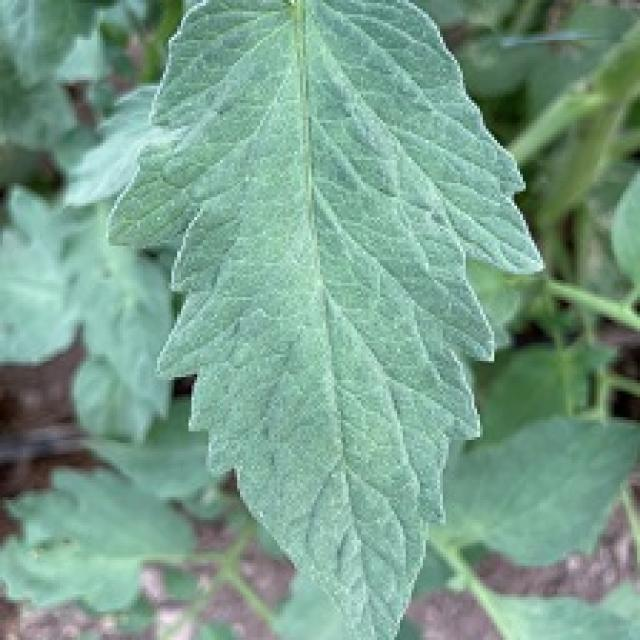Healthy: (6, 0, 608, 640)
